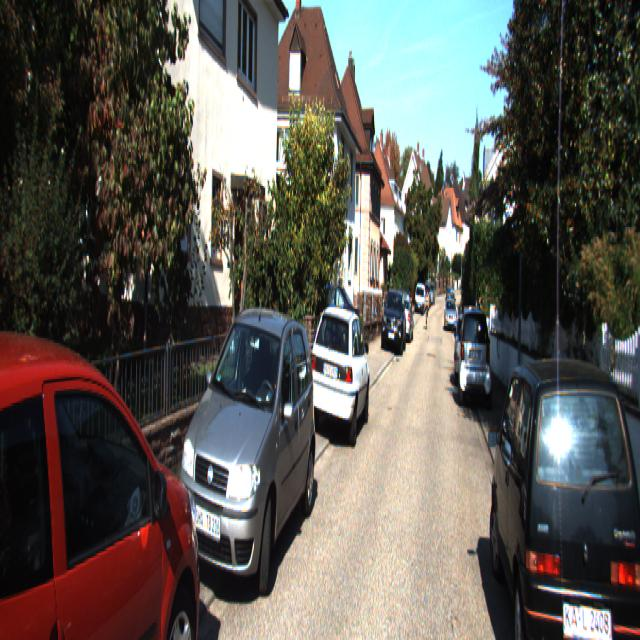Car: (0, 328, 207, 638), (172, 305, 322, 635), (483, 336, 639, 638), (308, 300, 371, 446), (456, 304, 493, 409), (382, 287, 408, 356)
